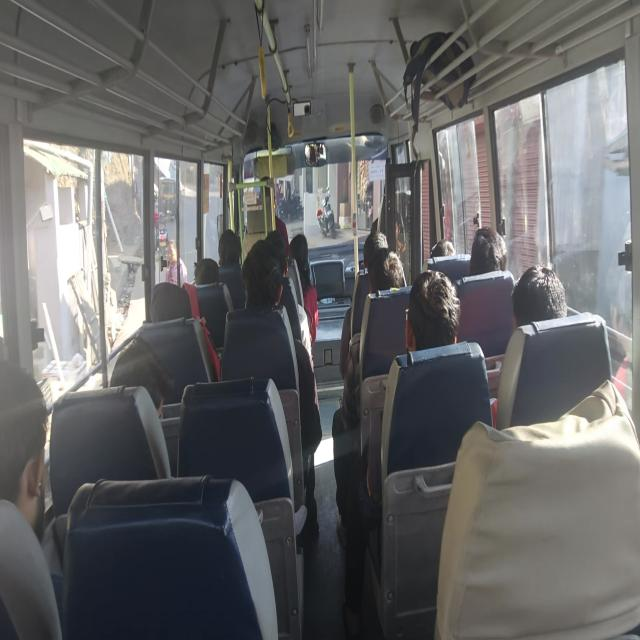person: (3, 362, 57, 541), (404, 259, 464, 359), (109, 332, 179, 407), (506, 245, 574, 322), (239, 245, 281, 319), (147, 282, 203, 326), (472, 230, 509, 285), (365, 253, 407, 294), (354, 226, 397, 260), (378, 171, 405, 210), (218, 230, 242, 272), (193, 259, 220, 295), (423, 242, 464, 264), (265, 230, 290, 263), (291, 226, 309, 270), (258, 171, 274, 202)
